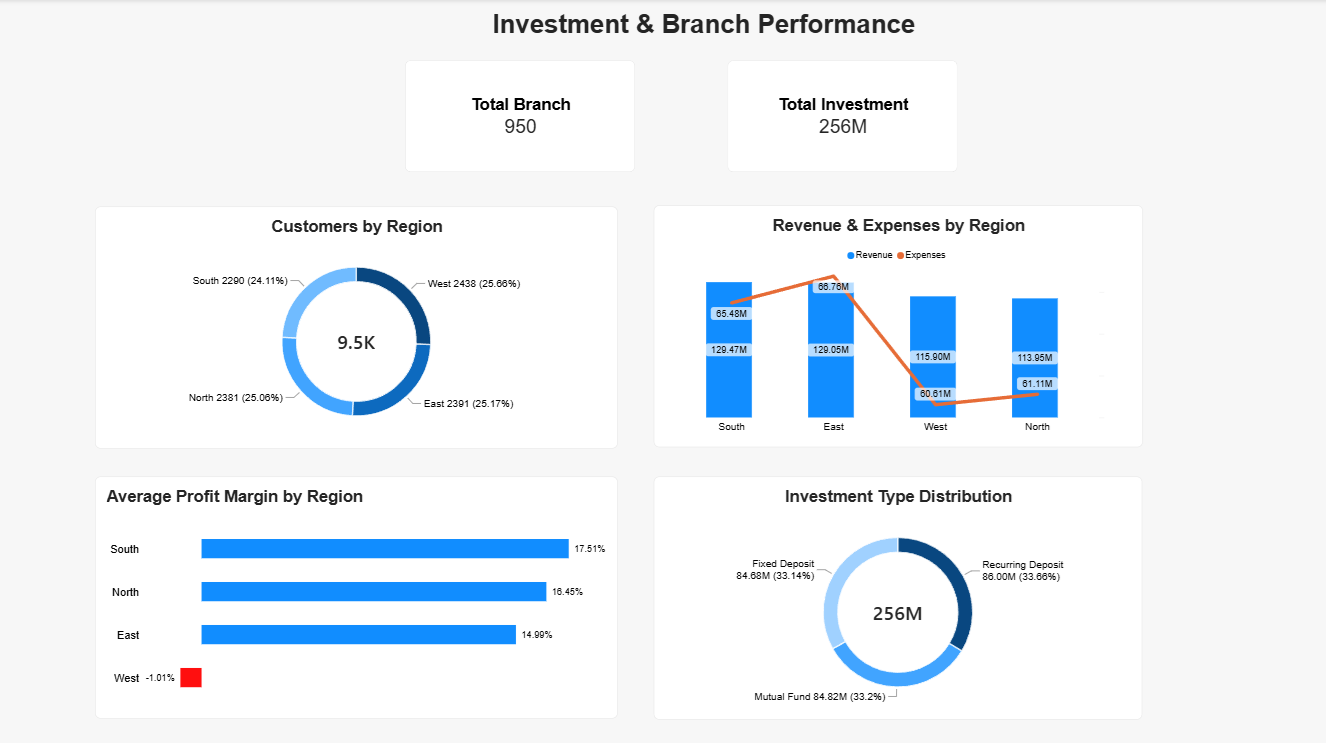

The dashboard page shown, as its layout file describes it:
{"tool":"powerbi","page":{"name":"Page 2","canvas":[1920,1080],"ordinal":1},"visuals":[{"type":"clusteredBarChart","title":"Average Profit Margin by Region","fields":{"Category":["banking_data bank_data.Region"],"Y":["banking_data bank_data.Average Profit Margin"]},"box":[136.7,691.4,757,350],"z":0},{"type":"cardVisual","fields":{"Data":["CountNonNull(banking_data bank_data.Branch_ID)"]},"box":[586.2,89.4,333,162],"z":1000},{"type":"cardVisual","fields":{"Data":["Sum(banking_data transaction_data.Investment_Amount)"]},"box":[1054.1,89.4,333.8,163],"z":2000},{"type":"donutChart","title":"Investment Type Distribution","fields":{"Category":["banking_data transaction_data.Investment_Type"],"Y":["Sum(banking_data transaction_data.Investment_Amount)"]},"box":[946.3,691.4,707.1,352.2],"z":3000},{"type":"lineClusteredColumnComboChart","title":"Revenue & Expenses by Region","fields":{"Category":["banking_data bank_data.Region"],"Y":["Sum(banking_data bank_data.Firm_Revenue)"],"Y2":["Sum(banking_data bank_data.Expenses)"]},"box":[945.7,298.7,707.7,350.6],"z":4000},{"type":"textbox","box":[586.3,0,865,76],"z":5000},{"type":"donutChart","title":"Customers by Region","fields":{"Category":["banking_data customer_data.Region"],"Y":["CountNonNull(banking_data customer_data.Customer_ID)"]},"box":[136.7,299.7,757,350],"z":6000}]}

Visuals, with their boxes in screenshot pixels (x1, y1, x2, y2), scaled from the page's 1920x1080 canvas onto the 1326x743 screenshot:
"Average Profit Margin by Region" clusteredBarChart: (left=94, top=476, right=617, bottom=716)
cardVisual - CountNonNull(banking_data bank_data.Branch_ID): (left=405, top=62, right=635, bottom=173)
cardVisual - Sum(banking_data transaction_data.Investment_Amount): (left=728, top=62, right=959, bottom=174)
"Investment Type Distribution" donutChart: (left=654, top=476, right=1142, bottom=718)
"Revenue & Expenses by Region" lineClusteredColumnComboChart: (left=653, top=205, right=1142, bottom=447)
textbox: (left=405, top=0, right=1002, bottom=52)
"Customers by Region" donutChart: (left=94, top=206, right=617, bottom=447)
